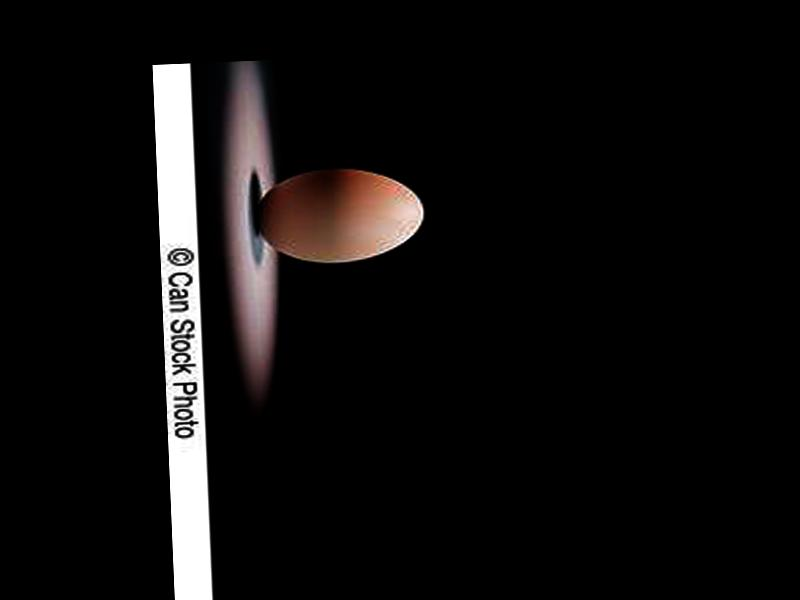Eggs: (253, 162, 425, 266)
